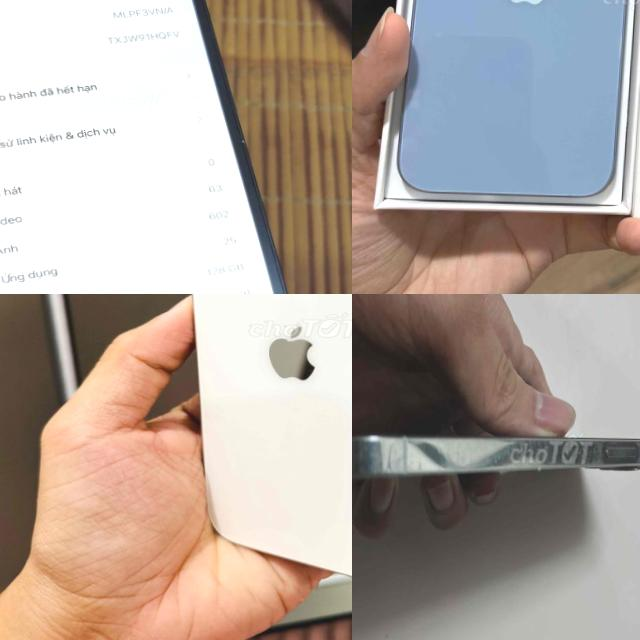scratch: (492, 421, 640, 478)
